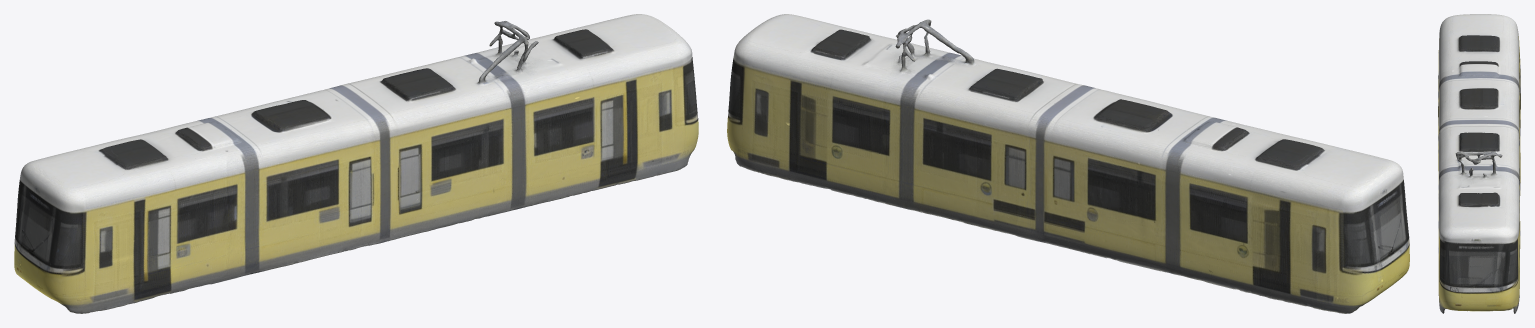
Rendered from regional_bahn.glb.
The picture shows the model from 3 angles, left to right: view 1: azimuth 30°, elevation 25°; view 2: azimuth 150°, elevation 25°; view 3: azimuth 270°, elevation 25°; orthographic projection. The views are drawn at different scales.
Size of the model in its own units: 2 by 0.46 by 0.3096.
1 material, 1 textured.
